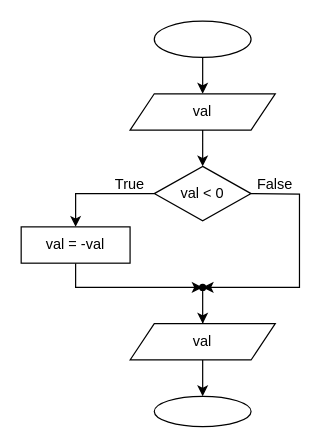
The diagram is 333 pixels wide and 448 high, and some of its shapes have lost their labels. The box of each missing label's shape, as (x1, y1, x2, y2) in pixels:
end: (153, 395, 251, 427)
start: (153, 20, 251, 57)
